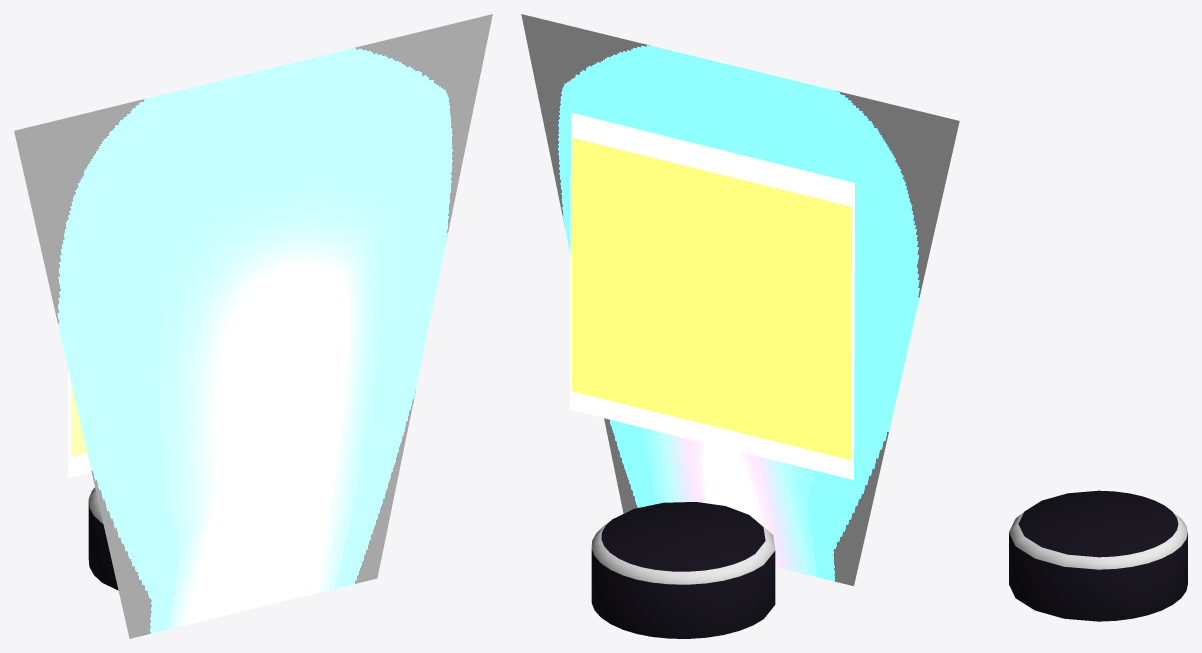
Rendered from Stage.fbx.
3 renders of one model, left to right at view 1: azimuth 30°, elevation 25°; view 2: azimuth 150°, elevation 25°; view 3: azimuth 270°, elevation 25°, orthographic. The views are drawn at different scales.
Visible parts, largest first — view 1: Stage; view 2: Stage; view 3: Stage.
Part boxes in pixels (bbox=[...]): Stage: bbox=[14, 14, 492, 638]; Stage: bbox=[521, 14, 959, 638]; Stage: bbox=[1009, 490, 1187, 621].
Size of the model in its own units: 345 by 369 by 142.
